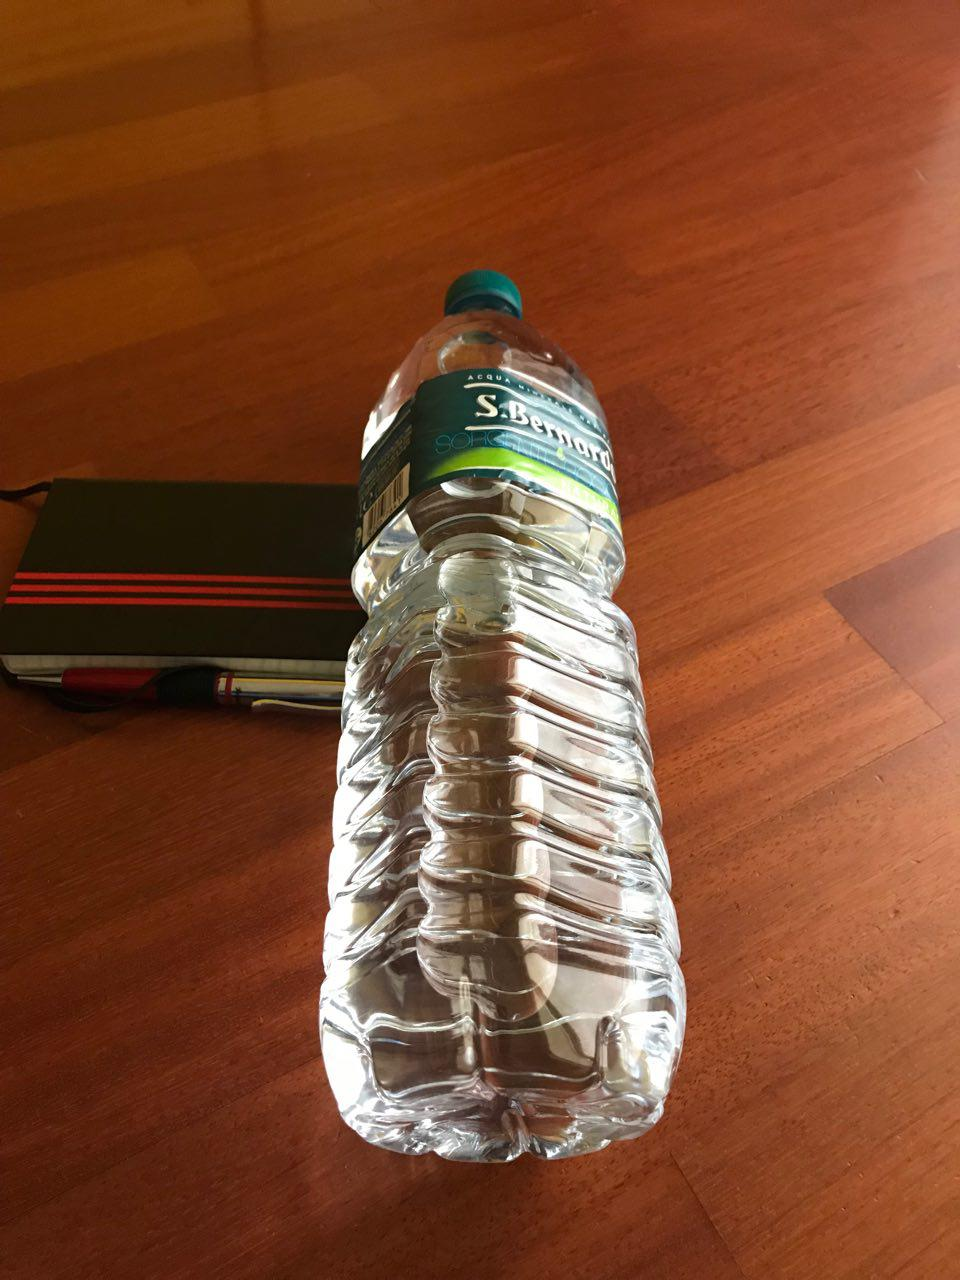san_bernardo: (316, 269, 689, 1163)
